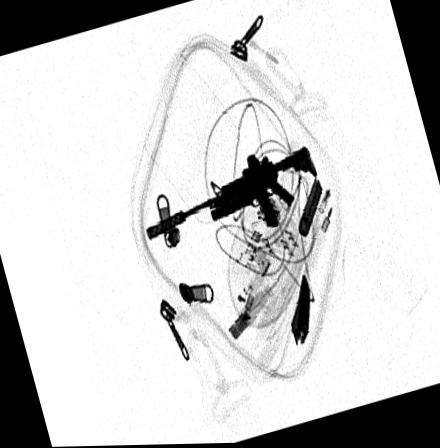Gun: (144, 146, 318, 241)
